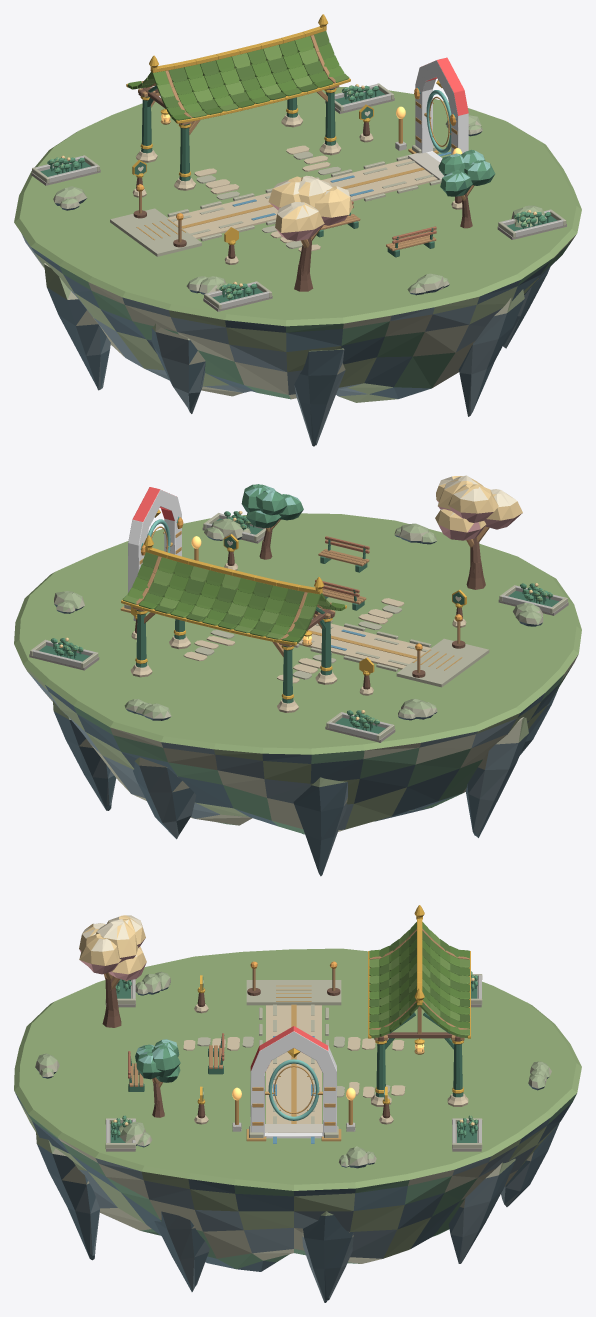
File: SM_SkyIsland_Rest.fbx
3 renders of one model, top to bottom at view 1: azimuth 30°, elevation 25°; view 2: azimuth 150°, elevation 25°; view 3: azimuth 270°, elevation 25°, orthographic.
Parts seen in each view (by area): view 1: SM_SkyIsland_Rest; view 2: SM_SkyIsland_Rest; view 3: SM_SkyIsland_Rest.
Part boxes in pixels (<box>): SM_SkyIsland_Rest: <box>14,14,581,446</box>; SM_SkyIsland_Rest: <box>14,475,581,876</box>; SM_SkyIsland_Rest: <box>14,905,581,1302</box>.
Bounding box in the file's own units: 2404 × 2395 × 1368.
